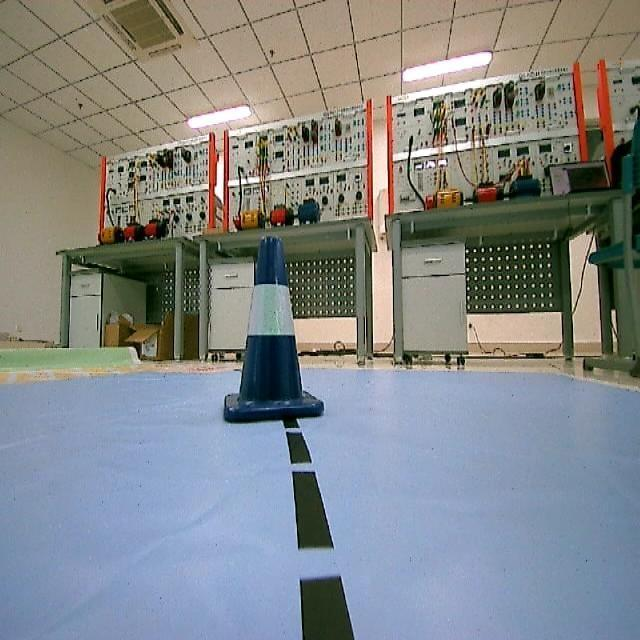obstacle: (216, 229, 331, 430)
